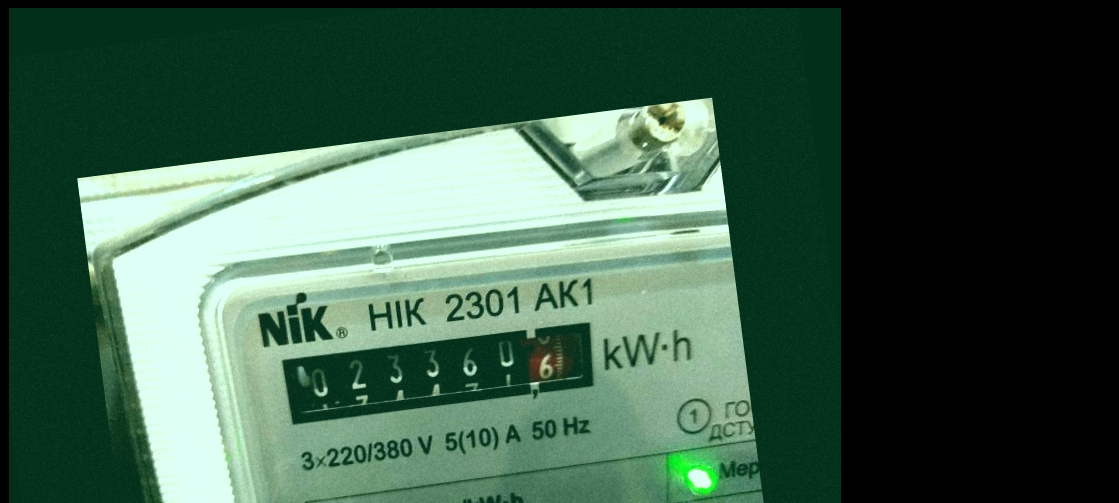0: (306, 364, 331, 400), (495, 337, 516, 370)
2: (344, 356, 371, 393)
3: (381, 352, 406, 386), (420, 346, 443, 379)
6: (456, 345, 480, 379), (532, 350, 557, 381)
screen: (261, 302, 613, 443)
